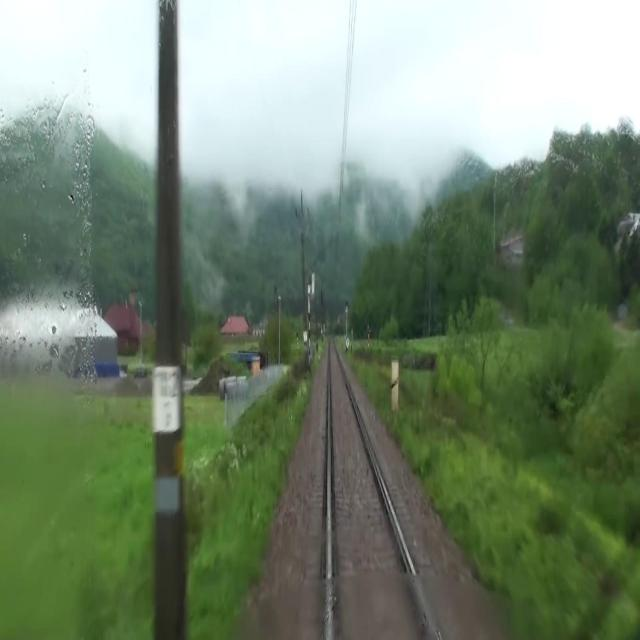rail-track: (330, 337, 430, 639)
